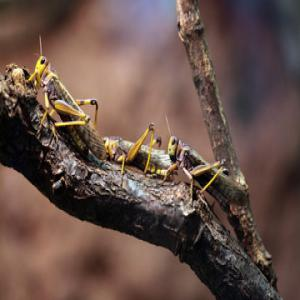locust: (25, 30, 108, 157), (161, 109, 253, 219)
